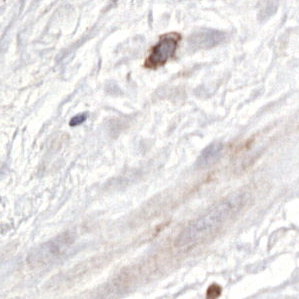Lymphocyte: (143, 32, 181, 66)
